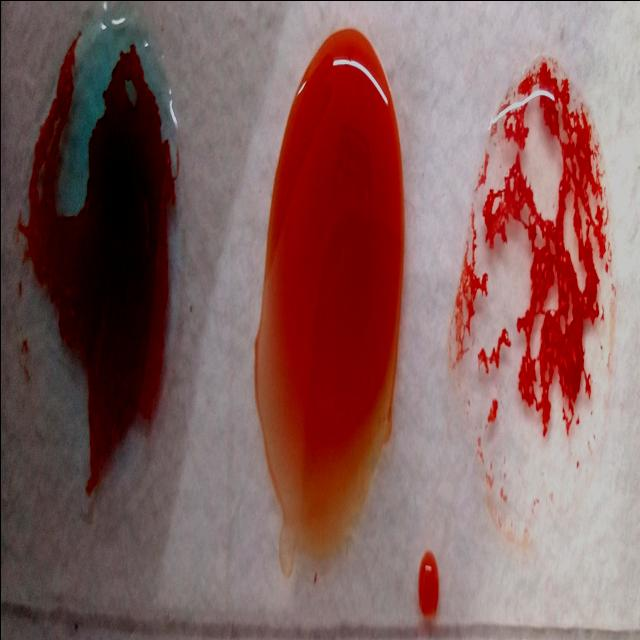A: (15, 12, 183, 484)
D: (464, 55, 616, 562)
